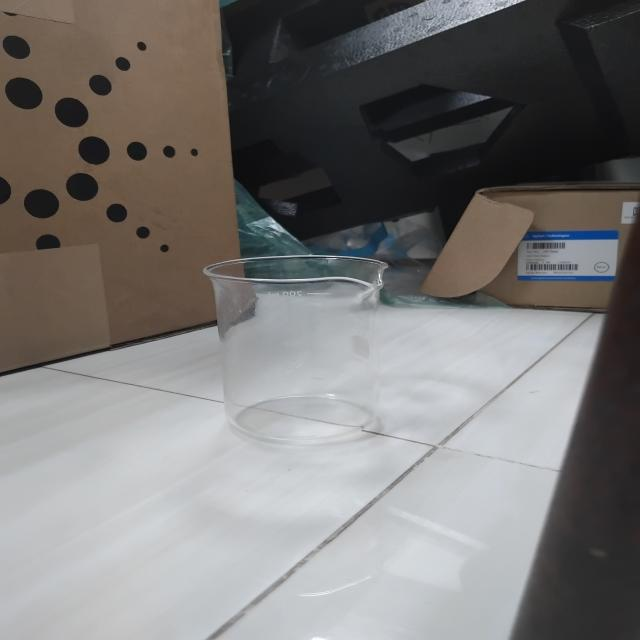Beaker: (163, 207, 420, 471)
